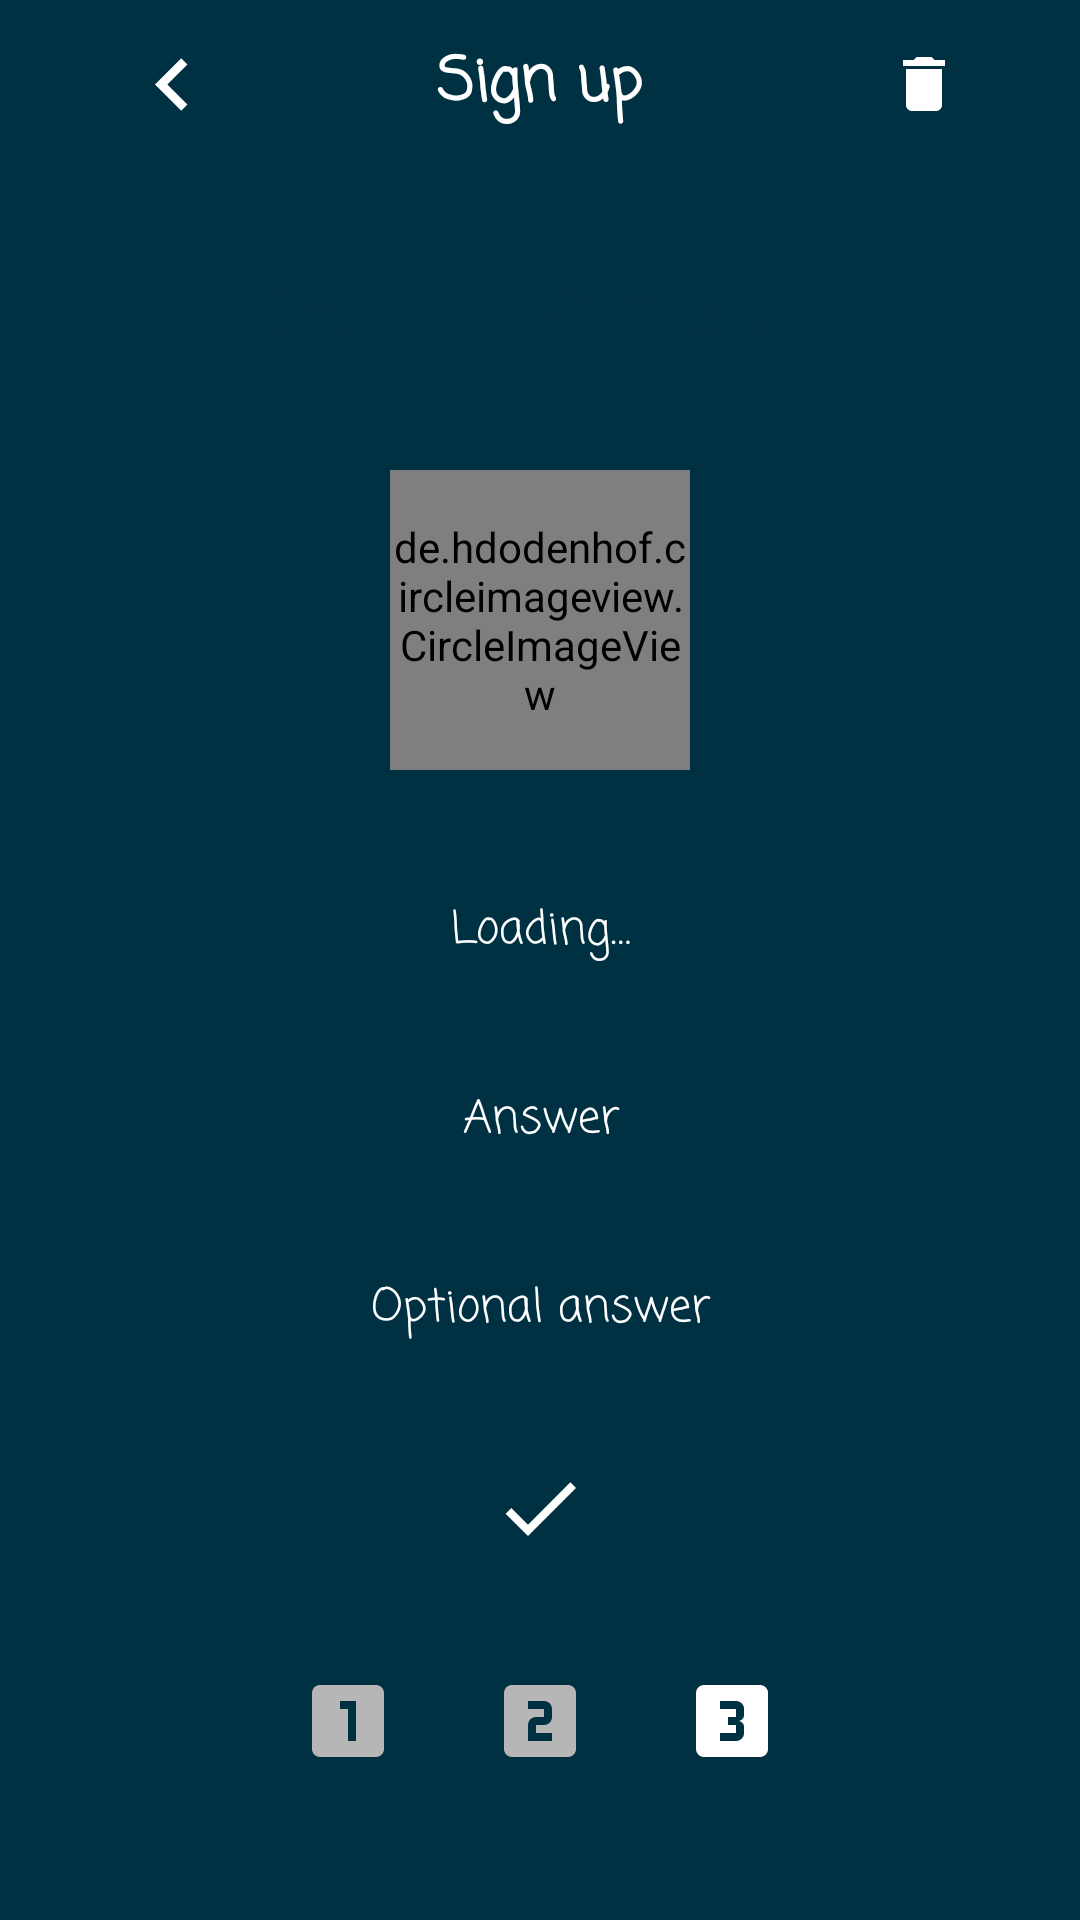

Screen size 1080 × 1920. Icon name, then its box in pixels as region(x1, y1, x2, y2):
back: region(155, 58, 188, 111)
check: region(505, 1482, 576, 1536)
delete: region(903, 57, 945, 111)
